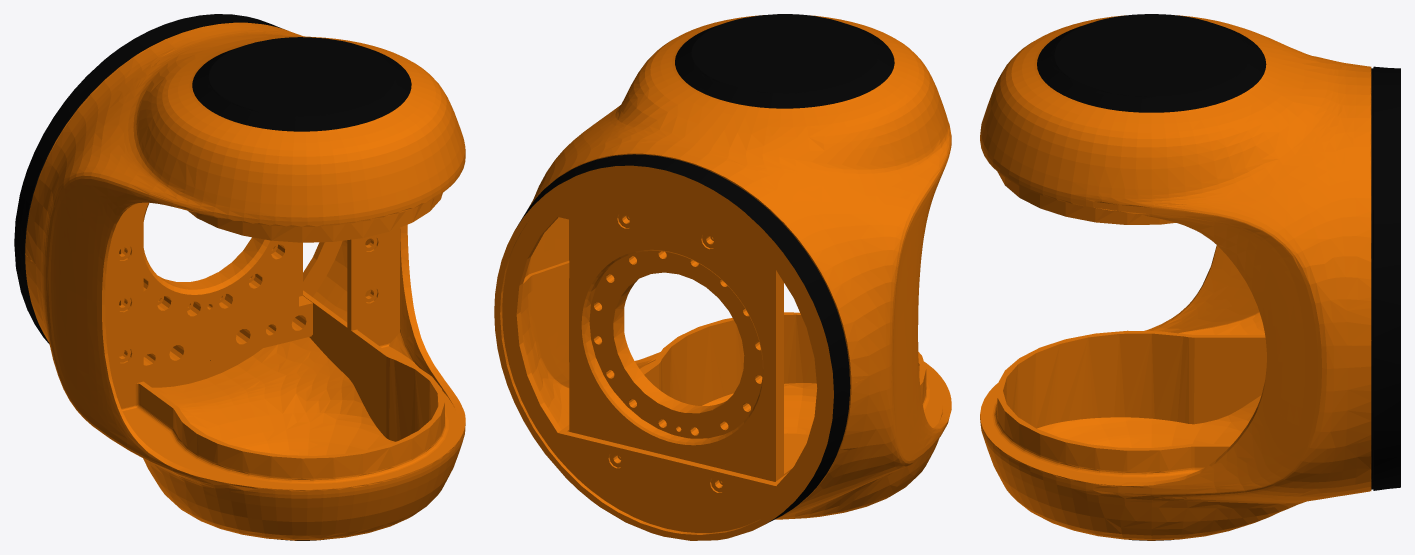
3 renders of one model, left to right at view 1: azimuth 30°, elevation 25°; view 2: azimuth 150°, elevation 25°; view 3: azimuth 270°, elevation 25°, orthographic. The views are drawn at different scales.
Parts seen in each view (by area): view 1: waist1; view 2: waist1; view 3: waist1.
Boxes of the visible parts, x1,y1,x2,y2 form: waist1: (14,14,465,540); waist1: (494,14,951,540); waist1: (980,14,1400,540).
Bounding box in the file's own units: 0.2063 × 0.2325 × 0.1995.
